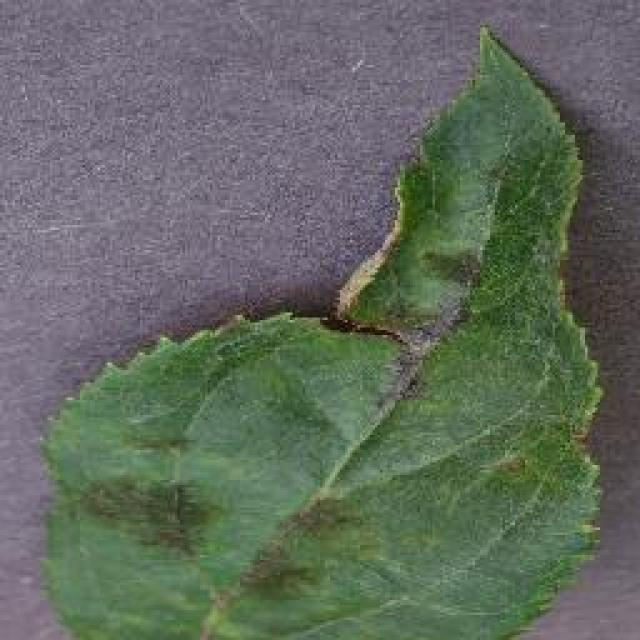apple scab disease: (35, 22, 605, 638)
